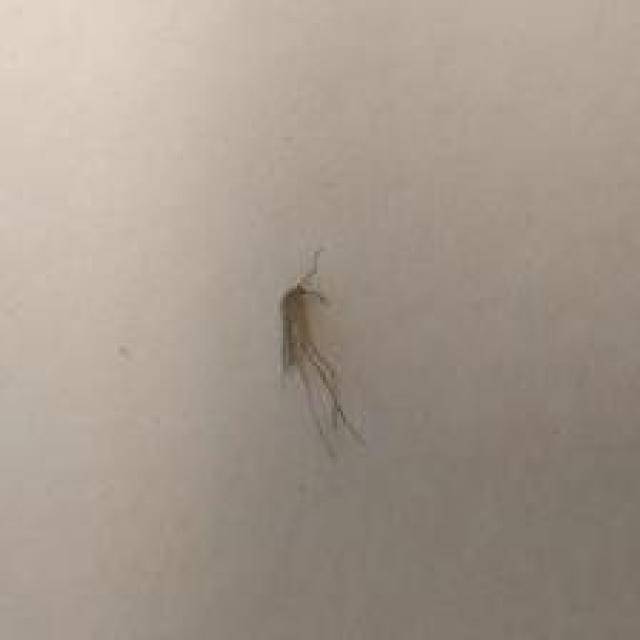Culex: (277, 247, 369, 462)
